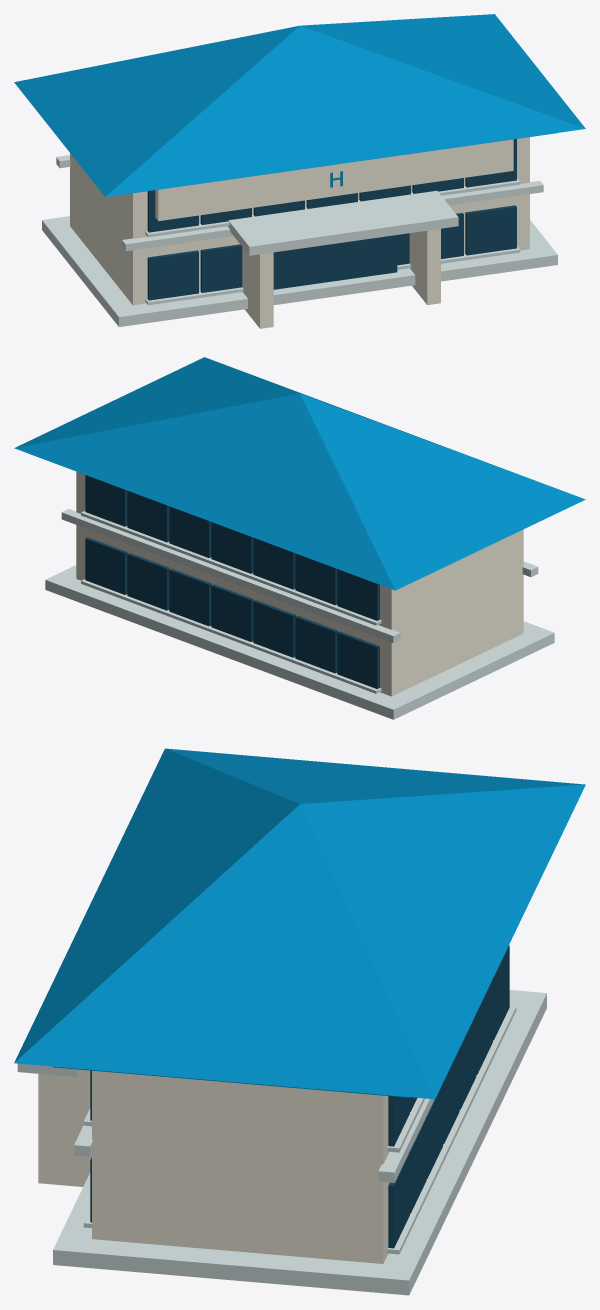
The model's file is lab-ipa-fkip.glb.
3 renders of one model, top to bottom at view 1: azimuth 30°, elevation 25°; view 2: azimuth 150°, elevation 25°; view 3: azimuth 270°, elevation 25°, orthographic. The views are drawn at different scales.
Visible parts, largest first — view 1: Lab_IPA_FKIP_blue, Lab_IPA_FKIP_ivory, Lab_IPA_FKIP_trim, Lab_IPA_FKIP_glass; view 2: Lab_IPA_FKIP_blue, Lab_IPA_FKIP_glass, Lab_IPA_FKIP_trim, Lab_IPA_FKIP_ivory; view 3: Lab_IPA_FKIP_blue, Lab_IPA_FKIP_ivory, Lab_IPA_FKIP_trim, Lab_IPA_FKIP_glass.
Boxes of the visible parts, x1,y1,x2,y2 form: Lab_IPA_FKIP_blue: (14, 14, 585, 196); Lab_IPA_FKIP_ivory: (70, 137, 529, 328); Lab_IPA_FKIP_trim: (42, 155, 557, 326); Lab_IPA_FKIP_glass: (147, 139, 516, 300); Lab_IPA_FKIP_blue: (14, 357, 585, 590); Lab_IPA_FKIP_glass: (85, 475, 379, 688); Lab_IPA_FKIP_trim: (45, 509, 554, 719); Lab_IPA_FKIP_ivory: (76, 471, 523, 696); Lab_IPA_FKIP_blue: (14, 748, 585, 1099); Lab_IPA_FKIP_ivory: (38, 1069, 389, 1263); Lab_IPA_FKIP_trim: (17, 990, 546, 1295); Lab_IPA_FKIP_glass: (90, 945, 509, 1248).
Bounding box in the file's own units: 25.12 × 11.35 × 17.31.
